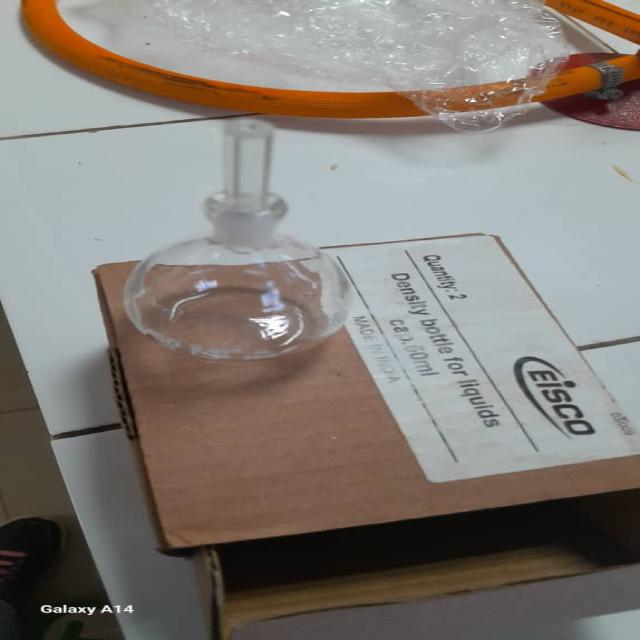Density Bottle for Liquids: (109, 117, 376, 373)
